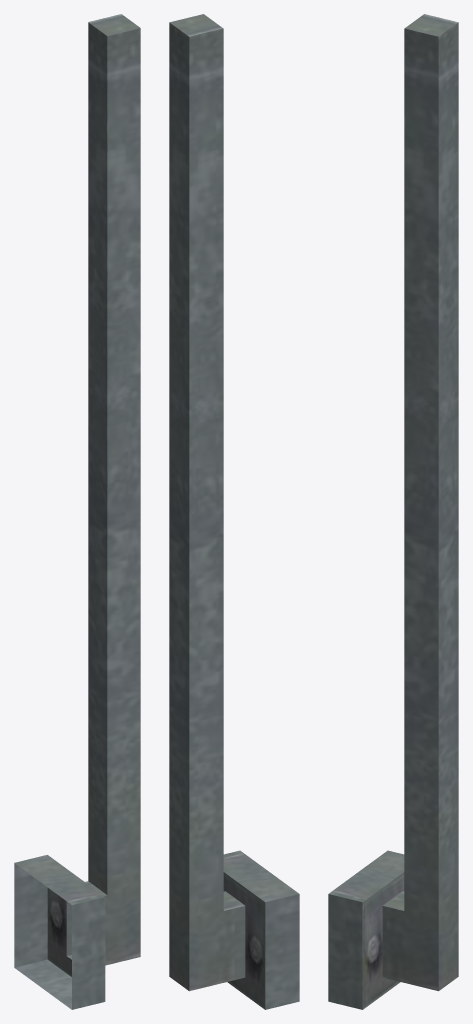
The model's file is eSK_fence01_side_fence_end.FBX.
The picture shows the model from 3 angles, left to right: view 1: azimuth 30°, elevation 25°; view 2: azimuth 210°, elevation 25°; view 3: azimuth 330°, elevation 25°; orthographic projection. The views are drawn at different scales.
Visible parts, largest first — view 1: Object1; view 2: Object1; view 3: Object1.
Part boxes in pixels (x1,y1,x2,y2): Object1: (14,14,140,1009); Object1: (169,14,299,1009); Object1: (328,14,458,1009).
Size of the model in its own units: 0.132 by 1.35 by 0.15.
Materials: 1 (1 with a texture image).
